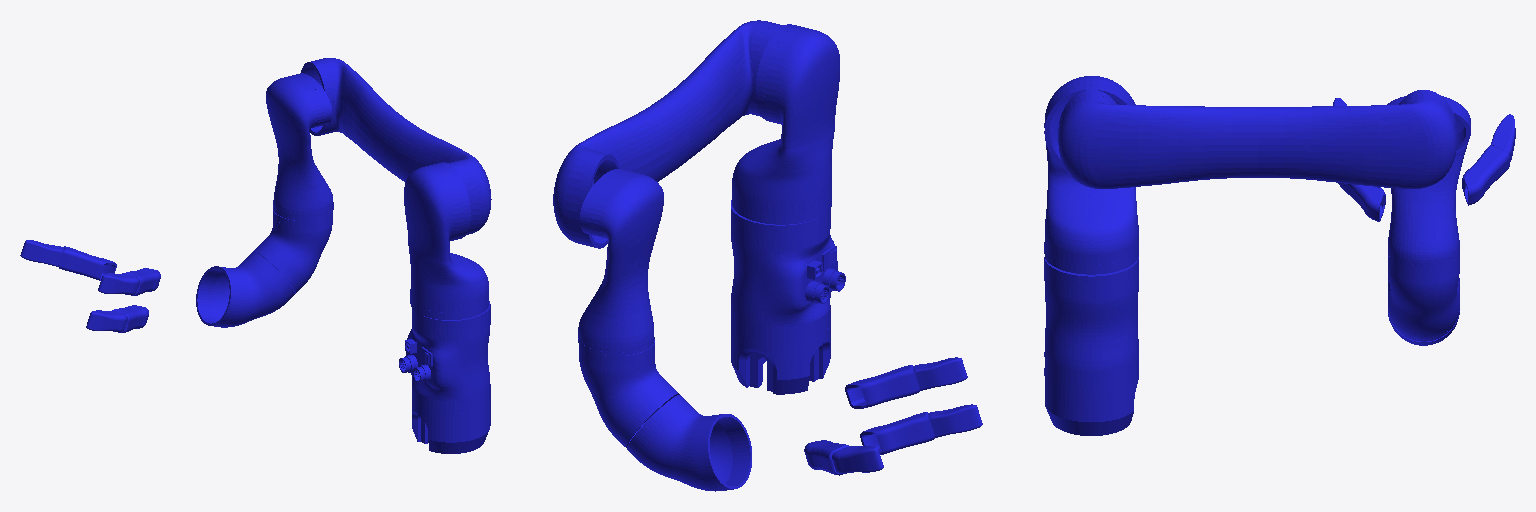
robot.urdf — sudo:
<?xml version="1.0" ?>
<!-- =================================================================================== -->
<!-- |    This document was autogenerated by xacro from complete_model.urdf.xacro      | -->
<!-- |    EDITING THIS FILE BY HAND IS NOT RECOMMENDED                                 | -->
<!-- =================================================================================== -->
<robot name="sudo" xmlns:controller="http://playerstage.sourceforge.net/gazebo/xmlschema/#controller" xmlns:interface="http://playerstage.sourceforge.net/gazebo/xmlschema/#interface" xmlns:sensor="http://playerstage.sourceforge.net/gazebo/xmlschema/#sensor" xmlns:xacro="http://ros.org/wiki/xacro">
  <!-- Robot base: base_link, chassis (pioneer) and left and right wheel -->
 
  
  

  <!-- Mico arm: piece of wood and arm -->
 
  <link name="metal_arm_base">
    <origin rpy="0 0 0" xyz="0 0 0"/>
    <visual name="visual">
      <origin rpy="0 0 0" xyz="0 0 0"/>
      <geometry>
        <mesh filename="package://sudo_description/models/box.dae" scale="0.15 0.2 0.035"/>
      </geometry>
      <material name="black">
        <color rgba="0 0 0 1.0"/>
      </material>
    </visual>
    <collision>
      <origin rpy="0 0 0" xyz="0 0 0"/>
      <geometry>
        <mesh filename="package://sudo_description/models/box.dae" scale="0.15 0.2 0.035"/>
      </geometry>
    </collision>
  </link>
  <gazebo reference="metal_arm_base">
    <material>Gazebo/Black</material>
  </gazebo>

  <link name="arm_base">
    <origin rpy="0 0 0" xyz="-0 0 0"/>
    <inertial>
      <mass value="200"/>
      <origin xyz="0 0 0"/>
      <inertia ixx="1" ixy="0" ixz="0" iyy="1" iyz="0" izz="1"/>
    </inertial>
  </link>
  <joint name="metal_arm_base_to_arm_base" type="fixed">
    <origin rpy=" 0 0 1.57" xyz="0 0 0.0775"/>
    <child link="arm_base"/>
    <parent link="metal_arm_base"/>
  </joint>
  <material name="JacoGrey">
    <color rgba="0.2 0.2 0.9 1.0"/>
  </material>
  <joint name="mico_base_joint" type="fixed">
    <origin rpy="0 0 0" xyz="0 0 0"/>
    <!-- fnh was: <origin xyz="0 0 0" rpy="0 0 0"/> -->
    <parent link="arm_base"/>
    <child link="mico_base_link"/>
  </joint>
  <link name="mico_base_link">
    <inertial>
      <!-- fnh -->
      <origin xyz="0 0 0"/>
      <mass value="1.0"/>
      <inertia ixx="1" ixy="0" ixz="0" iyy="1" iyz="0" izz="1"/>
    </inertial>
    <visual>
      <material name="JacoGrey"/>
      <origin rpy="0 0 1.57079632679" xyz="0 0 0"/>
      <geometry>
        <mesh filename="package://jaco_model/meshes/jaco_base_joint.dae"/>
      </geometry>
    </visual>
    <collision>
      <origin rpy="0 0 1.57079632679" xyz="0 0 0"/>
      <geometry>
        <mesh filename="package://jaco_model/meshes/jaco_base_joint.dae"/>
      </geometry>
    </collision>
  </link>
  <gazebo reference="mico_base_link">
    <!-- fnh -->
    <material>Gazebo/Grey</material>
    <turnGravityOff>false</turnGravityOff>
    <selfCollide>true</selfCollide>
    <mu1>100.0</mu1>
    <mu2>100.0</mu2>
    <kp>1000000.0</kp>
    <kd>1.0</kd>
  </gazebo>
  <joint name="mico_shoulder_yaw_joint" type="revolute">
    <!--<origin xyz="0 0 ${D1}" rpy="0 0 0"/>-->
    <origin rpy="0 0 0" xyz="0 0 0.2142"/>
    <axis rpy="0 0 0" xyz="0 0 1"/>
    <parent link="mico_base_link"/>
    <child link="mico_shoulder_link"/>
    <limit effort="200" lower="-3.04159265359" upper="3.04159265359" velocity="0.837758016"/>
    <dynamics damping="50.5"/>
  </joint>
  <transmission name="mico_shoulder_yaw_joint_transmission">
    <type>transmission_interface/SimpleTransmission</type>
    <actuator name="mico_shoulder_yaw_joint_motor">
      <hardwareInterface>EffortJointInterface</hardwareInterface>
      <mechanicalReduction>50</mechanicalReduction>
    </actuator>
    <joint name="mico_shoulder_yaw_joint"/>
    <mechanicalReduction>50</mechanicalReduction>
    <motorTorqueConstant>1</motorTorqueConstant>
    <pulsesPerRevolution>10000</pulsesPerRevolution>
  </transmission>
  <link name="mico_shoulder_link">
    <inertial>
      <!-- fnh -->
      <origin xyz="0 0 0"/>
      <mass value="1.0"/>
      <inertia ixx="1" ixy="0" ixz="0" iyy="1" iyz="0" izz="1"/>
    </inertial>
    <visual>
      <material name="JacoGrey"/>
      <origin rpy="1.57079632679 -1.57079632679 0" xyz="0 0 0"/>
      <geometry>
        <mesh filename="package://jaco_model/meshes/jaco_shoulder_yaw_joint.dae"/>
      </geometry>
    </visual>
    <collision>
      <origin rpy="1.57079632679 -1.57079632679 0" xyz="0 0 0"/>
      <geometry>
        <mesh filename="package://jaco_model/meshes/jaco_shoulder_yaw_joint.dae"/>
      </geometry>
    </collision>
  </link>
  <gazebo reference="mico_shoulder_link">
    <!-- fnh -->
    <material>Gazebo/Grey</material>
    <turnGravityOff>false</turnGravityOff>
    <selfCollide>true</selfCollide>
    <mu1>100.0</mu1>
    <mu2>100.0</mu2>
    <kp>1000000.0</kp>
    <kd>1.0</kd>
  </gazebo>
  <joint name="mico_shoulder_pitch_joint" type="revolute">
    <origin rpy="-1.57079632679 0 0" xyz="0 -1e-06 0"/>
    <axis xyz="0 0 1"/>
    <parent link="mico_shoulder_link"/>
    <child link="mico_upper_arm_link"/>
    <limit effort="300" lower="-3.83972424" upper="0.69813168" velocity="0.837758016"/>
    <dynamics damping="50.5"/>
  </joint>
  <transmission name="mico_shoulder_pitch_joint_transmission">
    <type>transmission_interface/SimpleTransmission</type>
    <actuator name="mico_shoulder_pitch_joint_motor">
      <hardwareInterface>EffortJointInterface</hardwareInterface>
      <mechanicalReduction>50</mechanicalReduction>
    </actuator>
    <joint name="mico_shoulder_pitch_joint"/>
    <mechanicalReduction>50</mechanicalReduction>
    <motorTorqueConstant>1</motorTorqueConstant>
    <pulsesPerRevolution>10000</pulsesPerRevolution>
  </transmission>
  <link name="mico_upper_arm_link">
    <inertial>
      <!-- fnh -->
      <origin xyz="0 0 0"/>
      <mass value="1.0"/>
      <inertia ixx="1" ixy="0" ixz="0" iyy="1" iyz="0" izz="1"/>
    </inertial>
    <visual>
      <material name="JacoGrey"/>
      <origin rpy="0 0 -1.57079632679" xyz="0 0 0"/>
      <geometry>
        <mesh filename="package://jaco_model/meshes/jaco_shoulder_pitch_joint.dae" scale="1 0.707317073171 1"/>
      </geometry>
    </visual>
    <collision>
      <origin rpy="0 0 -1.57079632679" xyz="0 0 0"/>
      <geometry>
        <mesh filename="package://jaco_model/meshes/jaco_shoulder_pitch_joint.dae" scale="1 0.707317073171 1"/>
      </geometry>
    </collision>
  </link>
  <gazebo reference="mico_upper_arm_link">
    <!-- fnh -->
    <material>Gazebo/Grey</material>
    <turnGravityOff>false</turnGravityOff>
    <selfCollide>true</selfCollide>
    <mu1>100.0</mu1>
    <mu2>100.0</mu2>
    <kp>1000000.0</kp>
    <kd>1.0</kd>
  </gazebo>
  <joint name="mico_elbow_pitch_joint" type="revolute">
    <origin rpy="0 0 0" xyz="0.29 0 0.012001"/>
    <axis xyz="0 0 1"/>
    <parent link="mico_upper_arm_link"/>
    <child link="mico_lower_arm_link"/>
    <limit effort="200" lower="-4.363323" upper="1.22173044" velocity="0.837758016"/>
    <dynamics damping="50.5"/>
  </joint>
  <transmission name="mico_elbow_pitch_joint_transmission">
    <type>transmission_interface/SimpleTransmission</type>
    <actuator name="mico_elbow_pitch_joint_motor">
      <hardwareInterface>EffortJointInterface</hardwareInterface>
      <mechanicalReduction>50</mechanicalReduction>
    </actuator>
    <joint name="mico_elbow_pitch_joint"/>
    <mechanicalReduction>50</mechanicalReduction>
    <motorTorqueConstant>1</motorTorqueConstant>
    <pulsesPerRevolution>10000</pulsesPerRevolution>
  </transmission>
  <link name="mico_lower_arm_link">
    <inertial>
      <!-- fnh -->
      <origin xyz="0 0 0"/>
      <mass value="0.8"/>
      <inertia ixx="1" ixy="0" ixz="0" iyy="1" iyz="0" izz="1"/>
    </inertial>
    <visual>
      <material name="JacoGrey"/>
      <origin rpy="3.14159265359 0 3.14159265359" xyz="0 0 -0.012"/>
      <geometry>
        <mesh filename="package://jaco_model/meshes/jaco_elbow_pitch_joint.dae" scale="1 0.601463414634 1"/>
      </geometry>
    </visual>
    <collision>
      <origin rpy="3.14159265359 0 3.14159265359" xyz="0 0 -0.012"/>
      <geometry>
        <mesh filename="package://jaco_model/meshes/jaco_elbow_pitch_joint.dae" scale="1 0.601463414634 1"/>
      </geometry>
    </collision>
  </link>
  <gazebo reference="mico_lower_arm_link">
    <!-- fnh -->
    <material>Gazebo/Grey</material>
    <turnGravityOff>false</turnGravityOff>
    <selfCollide>true</selfCollide>
    <mu1>100.0</mu1>
    <mu2>100.0</mu2>
    <kp>1000000.0</kp>
    <kd>1.0</kd>
  </gazebo>
  <joint name="mico_elbow_roll_joint" type="revolute">
    <origin rpy="-1.57079632679 0 0" xyz="0 0.165571 0 "/>
    <axis xyz="0 0 1"/>
    <parent link="mico_lower_arm_link"/>
    <child link="mico_lower_arm_roll_link"/>
    <limit effort="40" lower="-3.04159265359" upper="3.04159265359" velocity="1.04719752"/>
    <dynamics damping="50.5"/>
  </joint>
  <transmission name="mico_elbow_roll_joint_transmission">
    <type>transmission_interface/SimpleTransmission</type>
    <actuator name="mico_elbow_roll_joint_motor">
      <hardwareInterface>EffortJointInterface</hardwareInterface>
      <mechanicalReduction>50</mechanicalReduction>
    </actuator>
    <joint name="mico_elbow_roll_joint"/>
    <mechanicalReduction>50</mechanicalReduction>
    <motorTorqueConstant>1</motorTorqueConstant>
    <pulsesPerRevolution>10000</pulsesPerRevolution>
  </transmission>
  <link name="mico_lower_arm_roll_link">
    <inertial>
      <!-- fnh -->
      <origin xyz="0 0 0"/>
      <mass value="0.5"/>
      <inertia ixx="1" ixy="0" ixz="0" iyy="1" iyz="0" izz="1"/>
    </inertial>
    <visual>
      <material name="JacoGrey"/>
      <origin rpy="3.14159265359 0 1.57079632679" xyz="0 0 -0.04227"/>
      <geometry>
        <mesh filename="package://jaco_model/meshes/jaco_elbow_roll_joint.dae"/>
      </geometry>
    </visual>
    <collision>
      <origin rpy="3.14159265359 0 1.57079632679" xyz="0 0 -0.04227"/>
      <geometry>
        <mesh filename="package://jaco_model/meshes/jaco_elbow_roll_joint.dae"/>
      </geometry>
    </collision>
  </link>
  <gazebo reference="mico_lower_arm_roll_link">
    <!-- fnh -->
    <material>Gazebo/Grey</material>
    <turnGravityOff>false</turnGravityOff>
    <selfCollide>true</selfCollide>
    <mu1>100.0</mu1>
    <mu2>100.0</mu2>
    <kp>1000000.0</kp>
    <kd>1.0</kd>
  </gazebo>
  <joint name="mico_wrist_roll_joint" type="revolute">
    <origin rpy="0.959931088597 0 0" xyz="0 -0.0692622919853 0.0484979789618"/>
    <axis xyz="0 0 1"/>
    <parent link="mico_lower_arm_roll_link"/>
    <child link="mico_wrist_link"/>
    <limit effort="40" lower="-3.04159265359" upper="3.04159265359" velocity="1.04719752"/>
    <dynamics damping="50.5"/>
  </joint>
  <transmission name="mico_wrist_roll_joint_transmission">
    <type>transmission_interface/SimpleTransmission</type>
    <actuator name="mico_wrist_roll_joint_motor">
      <hardwareInterface>EffortJointInterface</hardwareInterface>
      <mechanicalReduction>50</mechanicalReduction>
    </actuator>
    <joint name="mico_wrist_roll_joint"/>
    <mechanicalReduction>50</mechanicalReduction>
    <motorTorqueConstant>1</motorTorqueConstant>
    <pulsesPerRevolution>10000</pulsesPerRevolution>
  </transmission>
  <link name="mico_wrist_link">
    <inertial>
      <!-- fnh -->
      <origin xyz="0 0 0"/>
      <mass value="0.5"/>
      <inertia ixx="1" ixy="0" ixz="0" iyy="1" iyz="0" izz="1"/>
    </inertial>
    <visual>
      <material name="JacoGrey"/>
      <origin rpy="0 3.14159265359 -1.57079632679" xyz="0 0 -0.0422768230075"/>
      <geometry>
        <mesh filename="package://jaco_model/meshes/jaco_wrist_roll_joint.dae"/>
      </geometry>
    </visual>
    <collision>
      <origin rpy="0 3.14159265359 -1.57079632679" xyz="0 0 -0.0422768230075"/>
      <geometry>
        <mesh filename="package://jaco_model/meshes/jaco_wrist_roll_joint.dae"/>
      </geometry>
    </collision>
  </link>
  <gazebo reference="mico_wrist_link">
    <!-- fnh -->
    <material>Gazebo/Grey</material>
    <turnGravityOff>false</turnGravityOff>
    <selfCollide>true</selfCollide>
    <mu1>100.0</mu1>
    <mu2>100.0</mu2>
    <kp>1000000.0</kp>
    <kd>1.0</kd>
  </gazebo>
  <joint name="mico_hand_roll_joint" type="revolute">
    <origin rpy="0.959931088597 0 0" xyz="0 -0.186174274186 0.130360630206"/>
    <axis xyz="0 0 1"/>
    <parent link="mico_wrist_link"/>
    <child link="mico_hand_link"/>
    <limit effort="40" lower="-1.67079632679" upper="4.52703501382" velocity="1.04719752"/>
    <dynamics damping="50.5"/>
  </joint>
  <transmission name="mico_hand_roll_joint_transmission">
    <type>transmission_interface/SimpleTransmission</type>
    <actuator name="mico_hand_roll_joint_motor">
      <hardwareInterface>EffortJointInterface</hardwareInterface>
      <mechanicalReduction>50</mechanicalReduction>
    </actuator>
    <joint name="mico_hand_roll_joint"/>
    <mechanicalReduction>50</mechanicalReduction>
    <motorTorqueConstant>1</motorTorqueConstant>
    <pulsesPerRevolution>10000</pulsesPerRevolution>
  </transmission>
  <link name="mico_hand_link">
    <inertial>
      <!-- fnh -->
      <origin xyz="0 0 0"/>
      <mass value="0.6"/>
      <inertia ixx="1" ixy="0" ixz="0" iyy="1" iyz="0" izz="1"/>
    </inertial>
    <visual>
      <material name="JacoGrey"/>
      <origin rpy="0 0 -3.14159265359" xyz="0 0 -0.185"/>
      <geometry>
        <mesh filename="package://jaco_model/meshes/jaco_hand_roll_joint.dae"/>
      </geometry>
    </visual>
    <collision>
      <origin rpy="0 0 -3.14159265359" xyz="0 0 -0.185"/>
      <geometry>
        <!--<mesh filename="package://jaco_model/meshes/jaco_hand_roll_joint.stl" scale="0.9 0.9 0.7" />  fnh -->
        <mesh filename="package://jaco_model/meshes/jaco_hand_roll_joint.dae"/>
      </geometry>
    </collision>
  </link>
  <gazebo reference="mico_hand_link">
    <!-- fnh -->
    <material>Gazebo/Grey</material>
    <turnGravityOff>false</turnGravityOff>
    <selfCollide>true</selfCollide>
    <mu1>100.0</mu1>
    <mu2>100.0</mu2>
    <kp>1000000.0</kp>
    <kd>1.0</kd>
  </gazebo>
  <joint name="mico_finger_1_joint" type="revolute">
    <!-- <origin xyz="-0.036 0.021 ${-0.07}" rpy="0 ${-M_PI/7} 0"/> -->
    <origin rpy="0 -0.448798950513 0" xyz="-0.036 0.021 -0.07"/>
    <axis xyz="0 1 0"/>
    <parent link="mico_hand_link"/>
    <child link="mico_finger_1_link"/>
    <limit effort="10" lower="-0.1" upper="1.04719752" velocity="1.0"/>
    <dynamics damping="50.5"/>
  </joint>
  <transmission name="mico_finger_1_joint_transmission">
    <type>transmission_interface/SimpleTransmission</type>
    <actuator name="mico_finger_1_joint_motor">
      <hardwareInterface>EffortJointInterface</hardwareInterface>
      <mechanicalReduction>50</mechanicalReduction>
    </actuator>
    <joint name="mico_finger_1_joint"/>
    <mechanicalReduction>50</mechanicalReduction>
    <motorTorqueConstant>1</motorTorqueConstant>
    <pulsesPerRevolution>10000</pulsesPerRevolution>
  </transmission>
  <link name="mico_finger_1_link">
    <inertial>
      <!-- fnh -->
      <origin xyz="0 0 0"/>
      <mass value="0.1"/>
      <inertia ixx="1" ixy="0" ixz="0" iyy="1" iyz="0" izz="1"/>
    </inertial>
    <visual>
      <material name="JacoGrey"/>
      <origin rpy="0 0 0" xyz="0 0 0"/>
      <geometry>
        <mesh filename="package://jaco_model/meshes/finger_new.dae"/>
      </geometry>
    </visual>
    <collision>
      <origin rpy="0 0 0" xyz="0 0 0"/>
      <geometry>
        <mesh filename="package://jaco_model/meshes/finger_new.dae"/>
      </geometry>
    </collision>
  </link>
  <gazebo reference="mico_finger_1_link">
    <!-- fnh -->
    <material>Gazebo/Grey</material>
    <turnGravityOff>false</turnGravityOff>
    <selfCollide>true</selfCollide>
    <mu1>100.0</mu1>
    <mu2>100.0</mu2>
    <kp>1000000.0</kp>
    <kd>1.0</kd>
  </gazebo>
  <joint name="mico_finger_2_joint" type="revolute">
    <origin rpy="0 -0.448798950513 -3.14159265359" xyz="0.036 -0 -0.07"/>
    <axis xyz="0 1 0"/>
    <parent link="mico_hand_link"/>
    <child link="mico_finger_2_link"/>
    <limit effort="10" lower="-0.1" upper="1.04719752" velocity="1.0"/>
    <dynamics damping="50.5"/>
  </joint>
  <transmission name="mico_finger_2_joint_transmission">
    <type>transmission_interface/SimpleTransmission</type>
    <actuator name="mico_finger_2_joint_motor">
      <hardwareInterface>EffortJointInterface</hardwareInterface>
      <mechanicalReduction>50</mechanicalReduction>
    </actuator>
    <joint name="mico_finger_2_joint"/>
    <mechanicalReduction>50</mechanicalReduction>
    <motorTorqueConstant>1</motorTorqueConstant>
    <pulsesPerRevolution>10000</pulsesPerRevolution>
  </transmission>
  <link name="mico_finger_2_link">
    <inertial>
      <!-- fnh -->
      <origin xyz="0 0 0"/>
      <mass value="0.1"/>
      <inertia ixx="1" ixy="0" ixz="0" iyy="1" iyz="0" izz="1"/>
    </inertial>
    <visual>
      <material name="JacoGrey"/>
      <origin rpy="0 0 0" xyz="0 0 0"/>
      <geometry>
        <mesh filename="package://jaco_model/meshes/finger_new.dae"/>
      </geometry>
    </visual>
    <collision>
      <origin rpy="0 0 0" xyz="0 0 0"/>
      <geometry>
        <mesh filename="package://jaco_model/meshes/finger_new.dae"/>
      </geometry>
    </collision>
  </link>
  <gazebo reference="mico_finger_2_link">
    <!-- fnh -->
    <material>Gazebo/Grey</material>
    <turnGravityOff>false</turnGravityOff>
    <selfCollide>true</selfCollide>
    <mu1>100.0</mu1>
    <mu2>100.0</mu2>
    <kp>1000000.0</kp>
    <kd>1.0</kd>
  </gazebo>
  <joint name="mico_finger_3_joint" type="revolute">
    <origin rpy="0 -0.448798950513 0" xyz="-0.036 -0.021 -0.07"/>
    <axis xyz="0 1 0"/>
    <parent link="mico_hand_link"/>
    <child link="mico_finger_3_link"/>
    <limit effort="10" lower="-0.1" upper="1.04719752" velocity="1.0"/>
    <dynamics damping="50.5"/>
  </joint>
  <transmission name="mico_finger_3_joint_transmission">
    <type>transmission_interface/SimpleTransmission</type>
    <actuator name="mico_finger_3_joint_motor">
      <hardwareInterface>EffortJointInterface</hardwareInterface>
      <mechanicalReduction>50</mechanicalReduction>
    </actuator>
    <joint name="mico_finger_3_joint"/>
    <mechanicalReduction>50</mechanicalReduction>
    <motorTorqueConstant>1</motorTorqueConstant>
    <pulsesPerRevolution>10000</pulsesPerRevolution>
  </transmission>
  <link name="mico_finger_3_link">
    <inertial>
      <!-- fnh -->
      <origin xyz="0 0 0"/>
      <mass value="0.1"/>
      <inertia ixx="1" ixy="0" ixz="0" iyy="1" iyz="0" izz="1"/>
    </inertial>
    <visual>
      <material name="JacoGrey"/>
      <origin rpy="0 0 0" xyz="0 0 0"/>
      <geometry>
        <mesh filename="package://jaco_model/meshes/finger_new.dae"/>
      </geometry>
    </visual>
    <collision>
      <origin rpy="0 0 0" xyz="0 0 0"/>
      <geometry>
        <mesh filename="package://jaco_model/meshes/finger_new.dae"/>
      </geometry>
    </collision>
  </link>
  <gazebo reference="mico_finger_3_link">
    <!-- fnh -->
    <material>Gazebo/Grey</material>
    <turnGravityOff>false</turnGravityOff>
    <selfCollide>true</selfCollide>
    <mu1>100.0</mu1>
    <mu2>100.0</mu2>
    <kp>1000000.0</kp>
    <kd>1.0</kd>
  </gazebo>
  <gazebo>
    <plugin filename="libgazebo_ros_control.so" name="gazebo_ros_control">
      <robotNamespace>/sudo</robotNamespace>
    </plugin>
  </gazebo>
</robot>

--- Render facts (derived) ---
3 views of the same robot in one strip: view 1: azimuth 30°, elevation 25°; view 2: azimuth 150°, elevation 25°; view 3: azimuth 270°, elevation 25° (orthographic).
Robot: sudo — 12 links, 11 joints (9 revolute, 2 fixed); root link metal_arm_base; default pose: every joint at zero.
Links seen in each view (by area): view 1: mico_base_link, mico_shoulder_link, mico_upper_arm_link, mico_lower_arm_link, mico_wrist_link, mico_lower_arm_roll_link, mico_finger_2_link, mico_finger_3_link, mico_finger_1_link; view 2: mico_base_link, mico_upper_arm_link, mico_shoulder_link, mico_lower_arm_link, mico_wrist_link, mico_lower_arm_roll_link, mico_finger_3_link, mico_finger_1_link, mico_finger_2_link; view 3: mico_upper_arm_link, mico_base_link, mico_shoulder_link, mico_lower_arm_link, mico_lower_arm_roll_link, mico_finger_2_link, mico_finger_1_link.
Boxes of the visible links, x1,y1,x2,y2 form: mico_base_link: [399, 301, 490, 453]; mico_shoulder_link: [404, 162, 488, 319]; mico_upper_arm_link: [301, 58, 491, 234]; mico_lower_arm_link: [266, 73, 333, 220]; mico_wrist_link: [196, 251, 294, 327]; mico_lower_arm_roll_link: [254, 210, 332, 293]; mico_finger_2_link: [20, 240, 116, 280]; mico_finger_3_link: [98, 268, 160, 295]; mico_finger_1_link: [86, 305, 148, 332]; mico_base_link: [731, 200, 845, 394]; mico_upper_arm_link: [553, 20, 783, 248]; mico_shoulder_link: [732, 24, 839, 224]; mico_lower_arm_link: [578, 169, 663, 355]; mico_wrist_link: [627, 395, 751, 491]; mico_lower_arm_roll_link: [579, 340, 679, 447]; mico_finger_3_link: [845, 357, 967, 408]; mico_finger_1_link: [860, 404, 982, 454]; mico_finger_2_link: [804, 440, 883, 475]; mico_upper_arm_link: [1058, 90, 1456, 188]; mico_base_link: [1044, 257, 1138, 435]; mico_shoulder_link: [1044, 76, 1138, 274]; mico_lower_arm_link: [1387, 96, 1470, 271]; mico_lower_arm_roll_link: [1388, 258, 1459, 341]; mico_finger_2_link: [1462, 114, 1515, 205]; mico_finger_1_link: [1338, 183, 1385, 221].
Size in the robot's own frame: 0.3593 by 0.4114 by 0.3174 metres.
9 mesh visuals loaded from 9 distinct referenced files (7 Collada DAE); not drawn: 2 (reference not matched to a file when rendering).